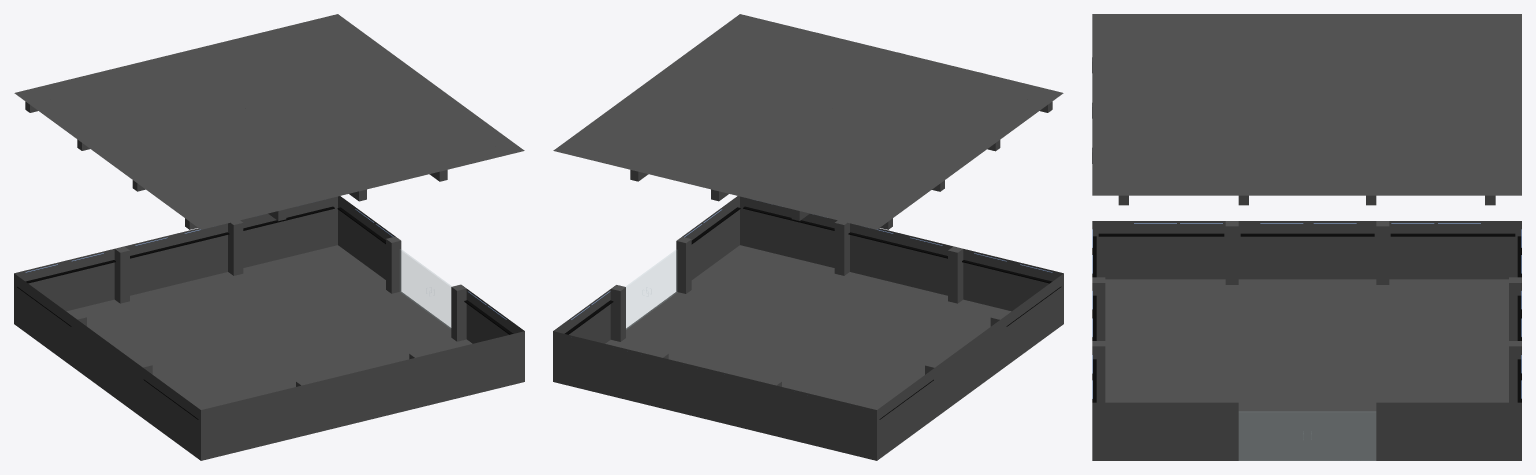
Rendered from Game_Room.fbx.
3 views of the same model, side by side, from view 1: azimuth 30°, elevation 25°; view 2: azimuth 150°, elevation 25°; view 3: azimuth 270°, elevation 25° (orthographic). The views are drawn at different scales.
Parts seen in each view (by area): view 1: Plane, Ceiling, pillar.001, Door, Cube.013; view 2: Plane, Ceiling, pillar.001, Door, Cube.013; view 3: Plane, Ceiling, Door, pillar.001, Cube.013, Wall Light.
Boxes of the visible parts, <box> form: Plane: <box>14,196,524,460</box>; Ceiling: <box>14,14,524,229</box>; pillar.001: <box>71,220,466,436</box>; Door: <box>400,249,451,328</box>; Cube.013: <box>17,206,513,419</box>; Plane: <box>553,196,1063,460</box>; Ceiling: <box>553,14,1063,229</box>; pillar.001: <box>610,220,1005,436</box>; Door: <box>626,250,676,329</box>; Cube.013: <box>564,206,1061,419</box>; Plane: <box>1092,221,1521,460</box>; Ceiling: <box>1092,14,1521,205</box>; Door: <box>1239,411,1375,460</box>; pillar.001: <box>1092,221,1521,402</box>; Cube.013: <box>1092,233,1521,402</box>; Wall Light: <box>1092,223,1521,398</box>.
Size of the model in its own units: 2013 by 1364 by 2001.
